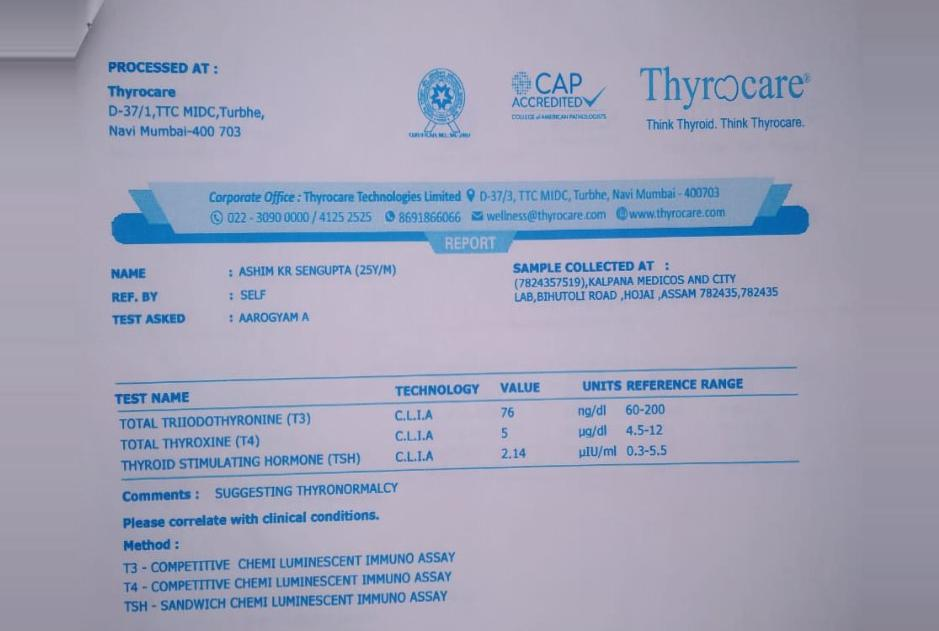Reference Range: (619, 397, 676, 465)
Test Name: (113, 406, 369, 478)
Units: (573, 397, 621, 466)
Value: (490, 399, 539, 468)
